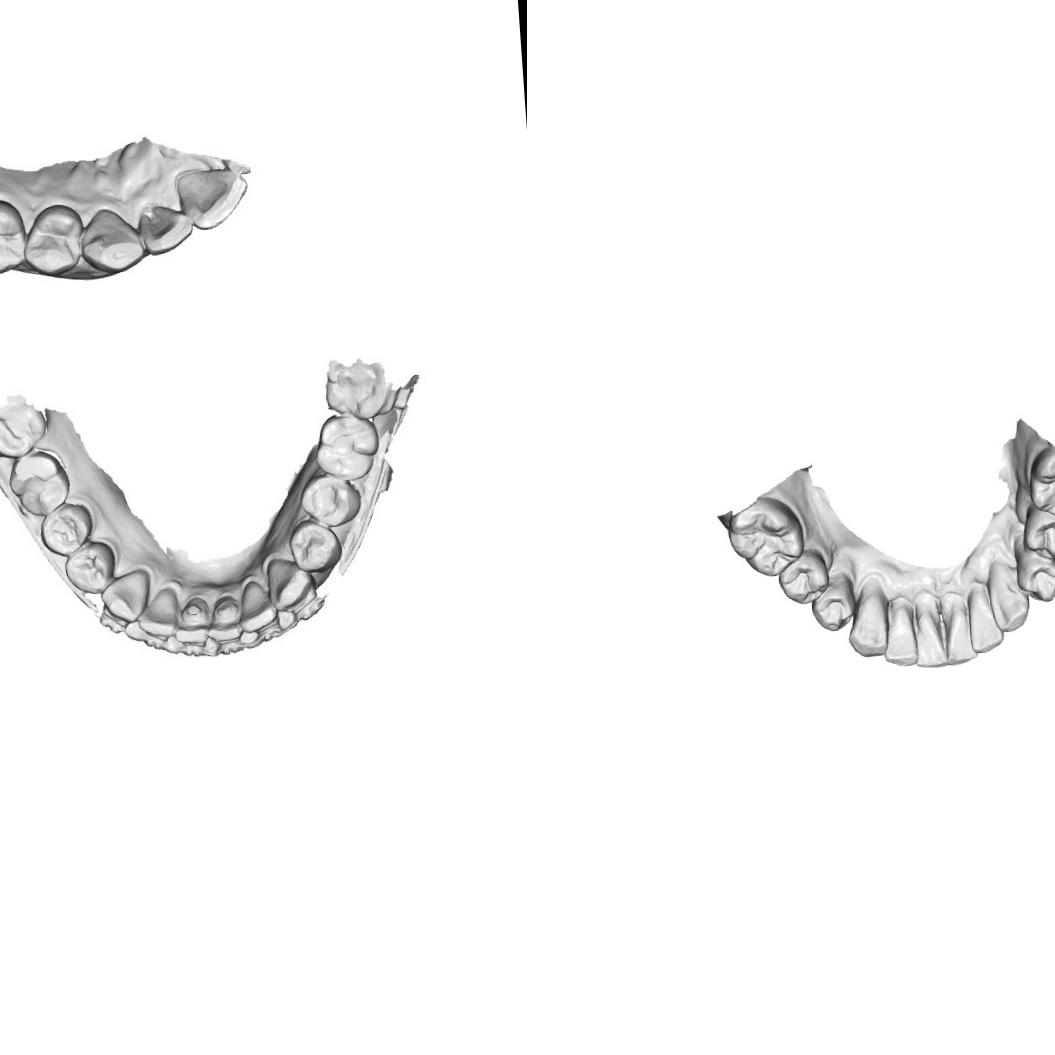canine: (74, 205, 148, 277), (843, 590, 890, 660), (985, 570, 1032, 634), (266, 556, 319, 610), (97, 571, 151, 617)
incisor: (176, 167, 251, 228), (135, 582, 188, 639), (136, 201, 194, 253), (963, 587, 1004, 655), (910, 609, 950, 670), (880, 604, 918, 668), (237, 578, 283, 630), (206, 587, 250, 641), (169, 594, 213, 646), (942, 606, 978, 666)
molar: (724, 494, 808, 581), (318, 414, 379, 480), (10, 448, 68, 514), (1023, 442, 1055, 524)
premolar: (18, 200, 85, 274), (298, 472, 361, 526), (806, 572, 858, 634), (776, 550, 832, 607), (38, 501, 94, 554), (62, 542, 118, 592), (1010, 546, 1055, 605), (291, 517, 337, 567), (1019, 503, 1055, 563), (0, 194, 25, 277)
